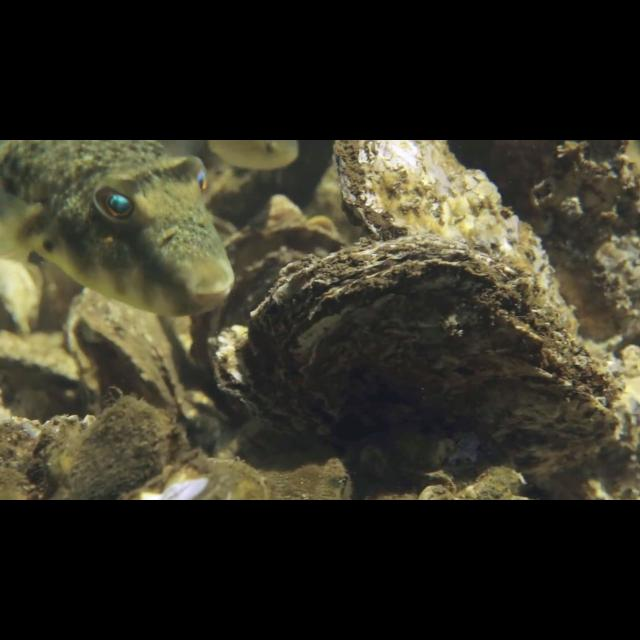Oyster-Closed: (235, 238, 631, 478), (328, 140, 572, 308), (74, 311, 186, 412)
Oyster-Open: (205, 224, 341, 320)
